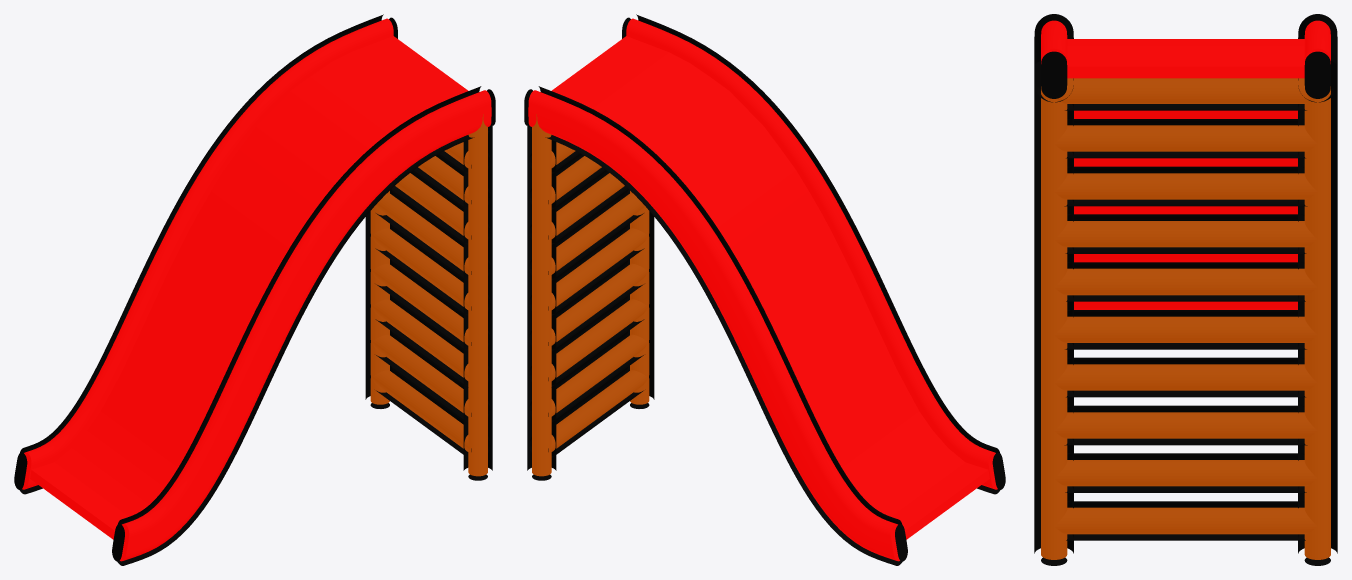
The model's file is Slide.fbx.
3 renders of one model, left to right at view 1: azimuth 30°, elevation 25°; view 2: azimuth 150°, elevation 25°; view 3: azimuth 270°, elevation 25°, orthographic. The views are drawn at different scales.
Parts seen in each view (by area): view 1: SlideCurve, Sides, Ladder, LadderSides; view 2: SlideCurve, Sides, Ladder, LadderSides; view 3: Ladder, LadderSides, SlideCurve, Sides.
Part boxes in pixels (<box>): SlideCurve: <box>30,36,468,539</box>; Sides: <box>14,14,495,565</box>; Ladder: <box>370,125,490,457</box>; LadderSides: <box>365,108,492,480</box>; SlideCurve: <box>551,36,989,539</box>; Sides: <box>524,14,1005,565</box>; Ladder: <box>529,125,649,457</box>; LadderSides: <box>527,108,654,480</box>; Ladder: <box>1054,78,1317,540</box>; LadderSides: <box>1034,61,1337,565</box>; SlideCurve: <box>1067,39,1304,309</box>; Sides: <box>1034,14,1337,102</box>.
Size of the model in its own units: 4.43 by 2.3 by 4.39.
